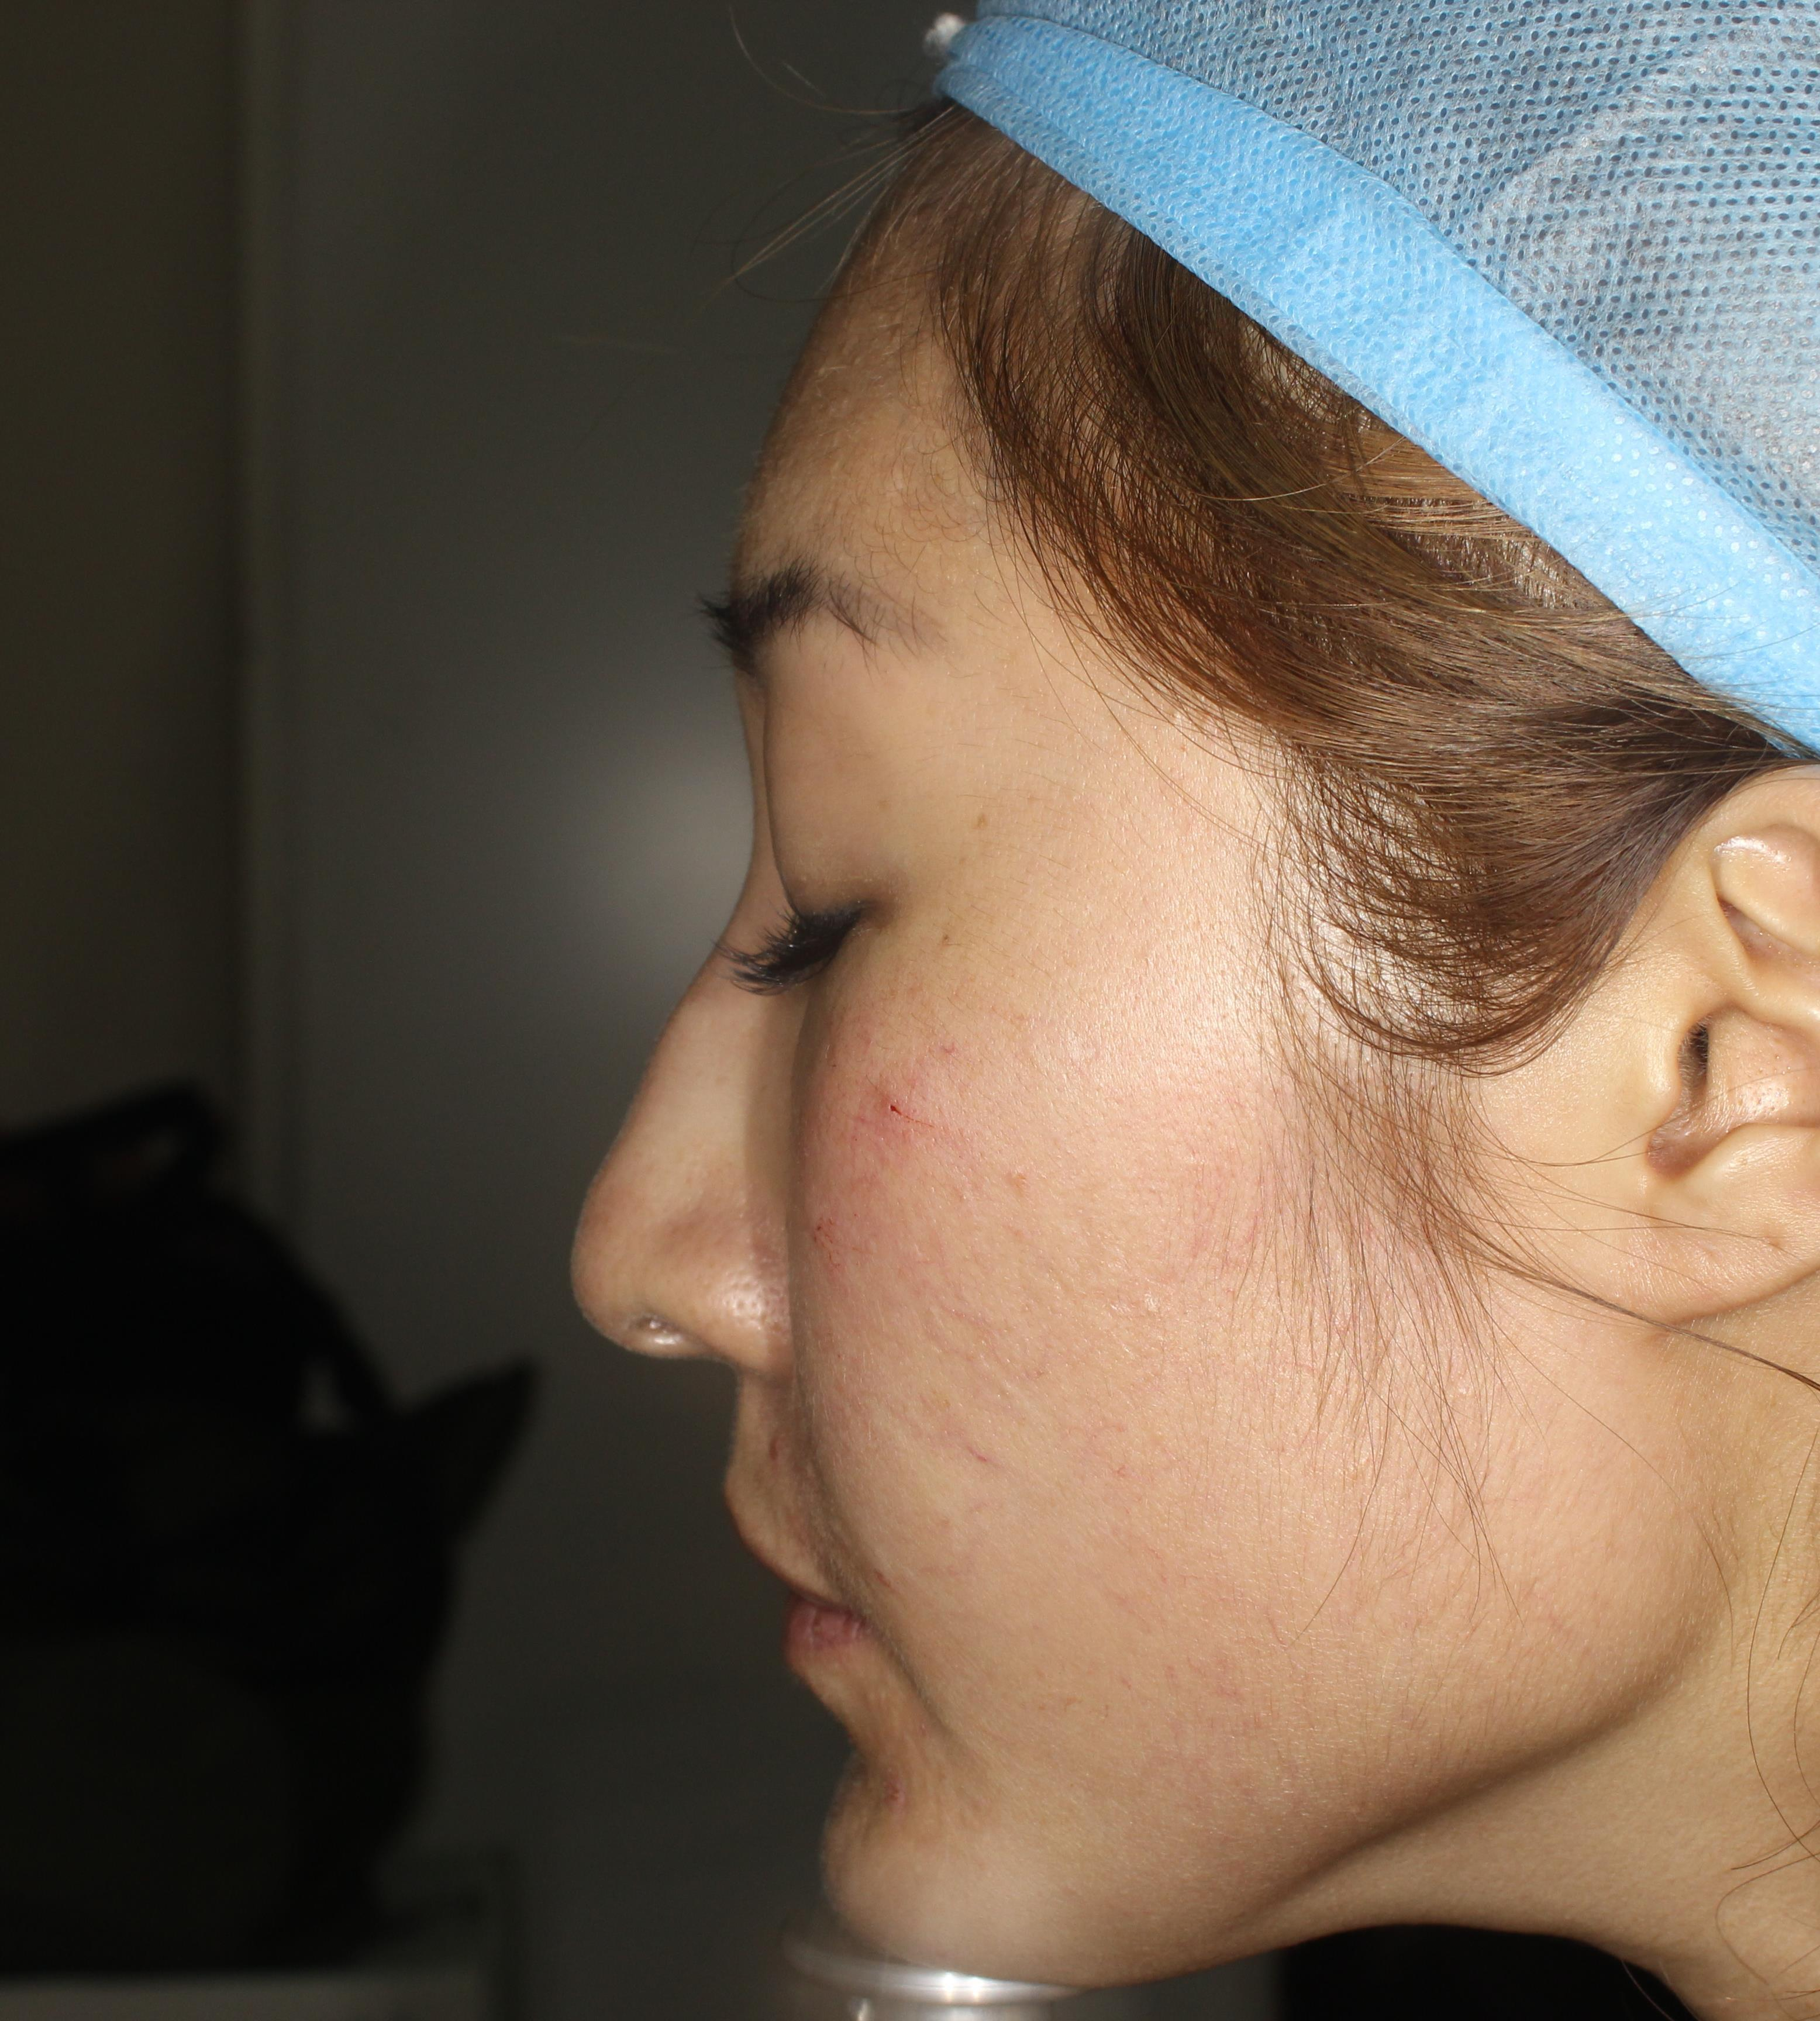fore: (870, 1046, 929, 1164)
